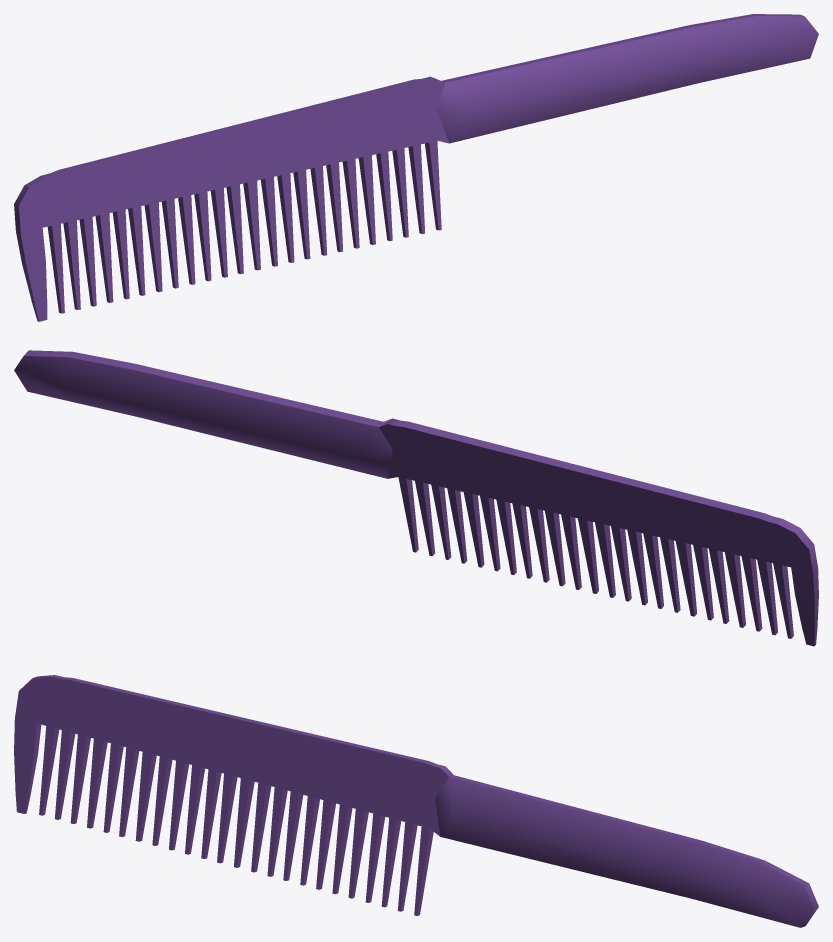
Rendered from kam.fbx.
3 views of the same model, one above another, from view 1: azimuth 30°, elevation 25°; view 2: azimuth 150°, elevation 25°; view 3: azimuth 330°, elevation 25° (orthographic).
Parts seen in each view (by area): view 1: pCube1; view 2: pCube1; view 3: pCube1.
Boxes of the visible parts, x1,y1,x2,y2 form: pCube1: (14, 14, 818, 321); pCube1: (14, 350, 818, 646); pCube1: (14, 675, 818, 927).
Size of the model in its own units: 17.33 by 2.92 by 0.8714.
